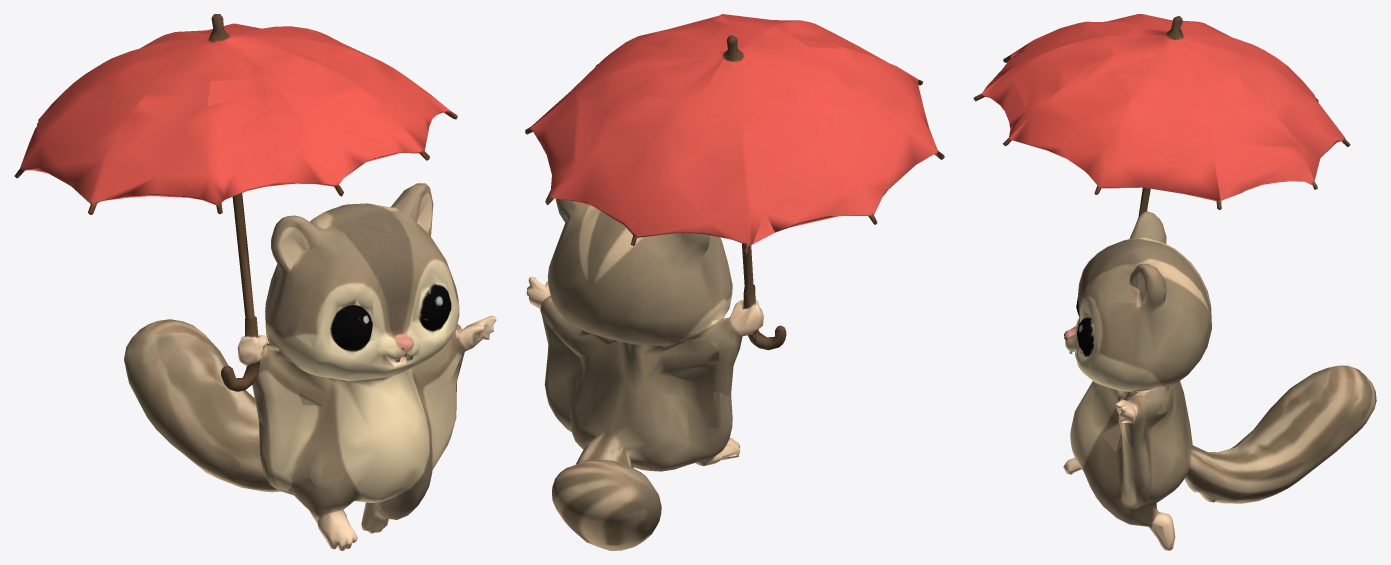
File: sq-umbrella-ani8x.glb
The picture shows the model from 3 angles, left to right: view 1: azimuth 30°, elevation 25°; view 2: azimuth 150°, elevation 25°; view 3: azimuth 270°, elevation 25°; orthographic projection. The views are drawn at different scales.
Parts seen in each view (by area): view 1: Mesh_0; view 2: Mesh_0; view 3: Mesh_0.
Part boxes in pixels (<box>): Mesh_0: <box>14,14,496,550</box>; Mesh_0: <box>525,14,944,550</box>; Mesh_0: <box>973,14,1376,550</box>.
Bounding box in the file's own units: 11.14 × 13.8 × 10.73.
1 material, 1 textured.
